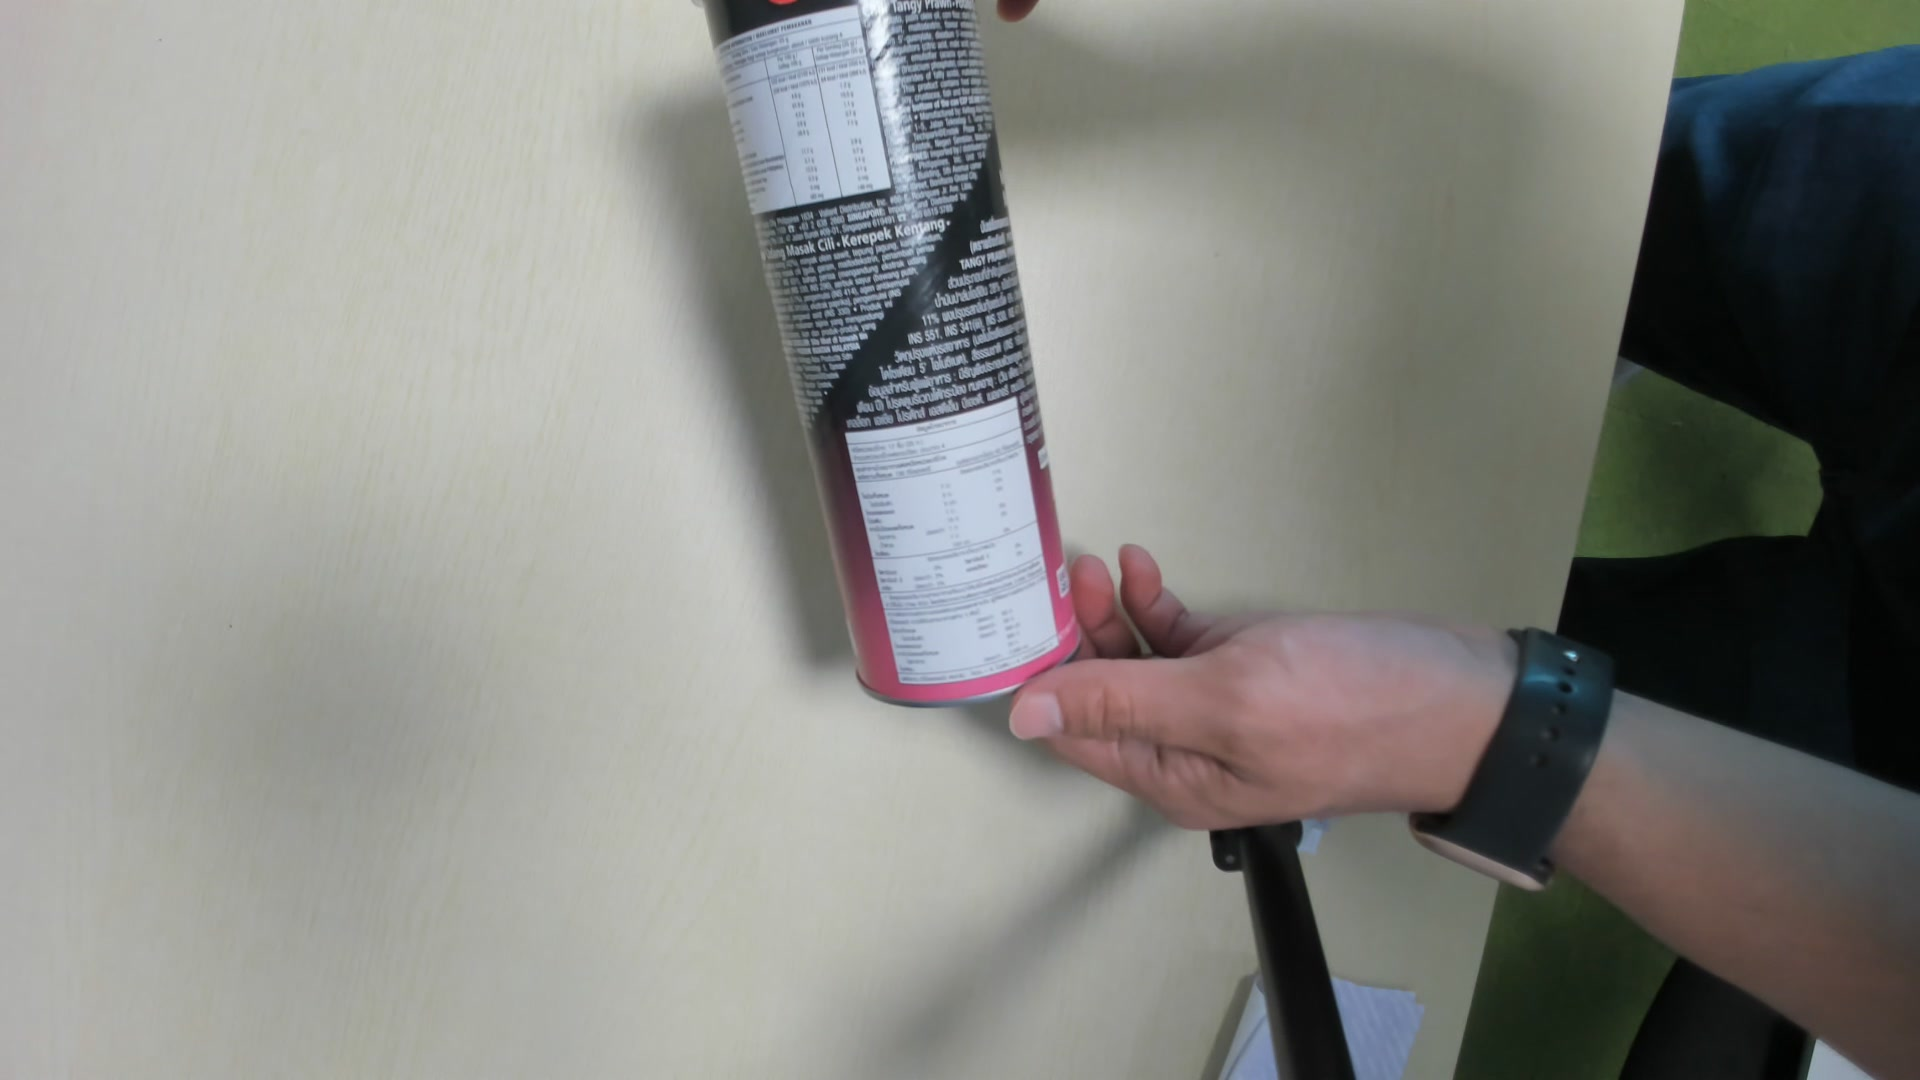PotatoChipsKeropok_0-99g_NonHalal_NonHealthy: (704, 3, 1083, 715)
